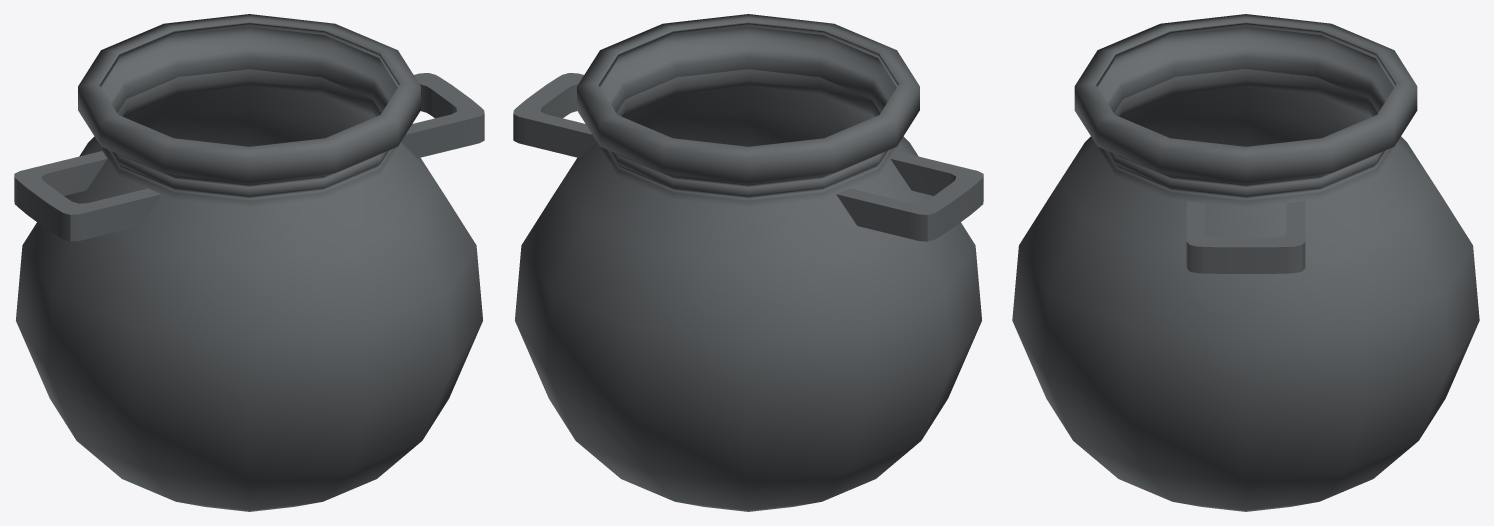
The model's file is SM_Cauldron.fbx.
3 views of the same model, side by side, from view 1: azimuth 30°, elevation 25°; view 2: azimuth 150°, elevation 25°; view 3: azimuth 270°, elevation 25° (orthographic).
Visible parts, largest first — view 1: SM_Cauldron; view 2: SM_Cauldron; view 3: SM_Cauldron.
Boxes of the visible parts, x1,y1,x2,y2 form: SM_Cauldron: [14, 14, 484, 511]; SM_Cauldron: [513, 14, 983, 511]; SM_Cauldron: [1012, 14, 1479, 511].
Bounding box in the file's own units: 75.85 × 66.8 × 72.34.
